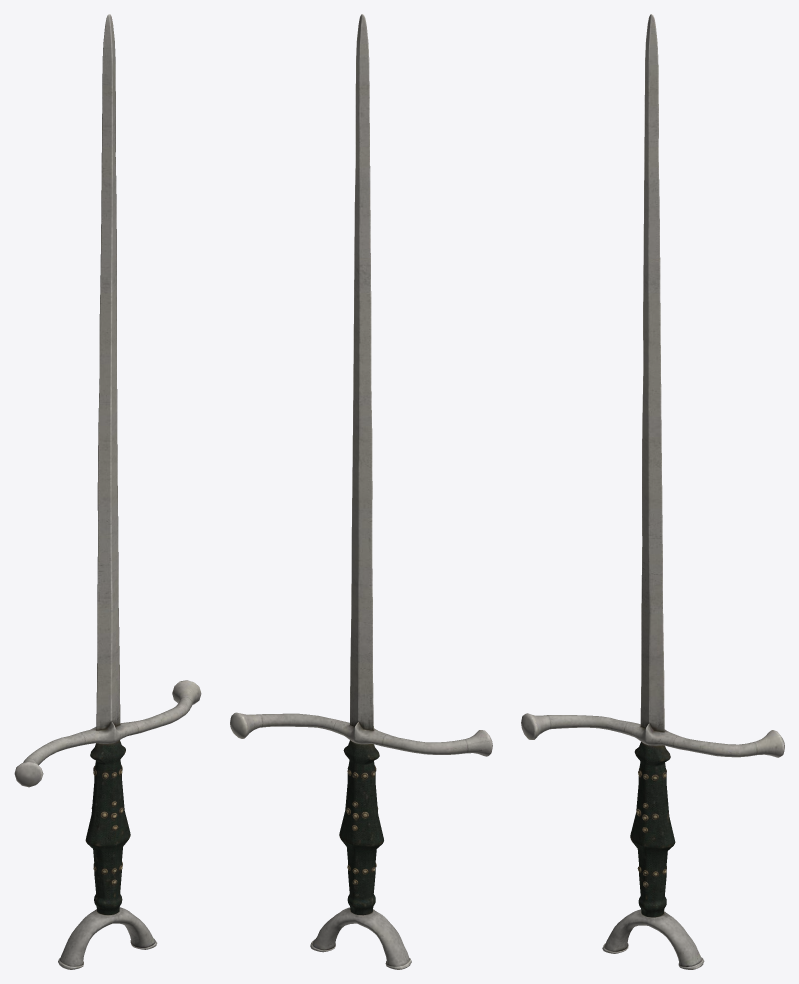
File: ph_estoc_cathedral.glb
The picture shows the model from 3 angles, left to right: view 1: azimuth 30°, elevation 25°; view 2: azimuth 150°, elevation 25°; view 3: azimuth 330°, elevation 25°; orthographic projection.
Parts seen in each view (by area): view 1: ph_estoc_cathedral; view 2: ph_estoc_cathedral; view 3: ph_estoc_cathedral.
Part boxes in pixels (x1,y1,x2,y2): ph_estoc_cathedral: (14, 14, 201, 969); ph_estoc_cathedral: (230, 14, 492, 969); ph_estoc_cathedral: (521, 14, 784, 969).
Size of the model in its own units: 0.3715 by 1.49 by 0.1491.
1 material, 1 textured.
